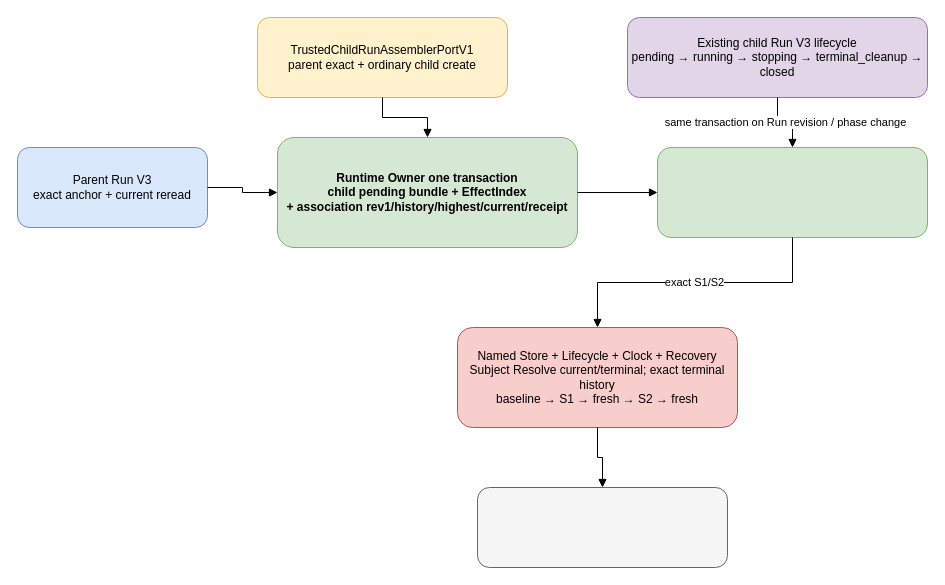
Image size: 945x585. Some labels were removed from this diagram. The centre of each missing label's shape, as x and y in pixels:
Append-only association history revision +1 / full-ref current CAS / ABA highest: the point at 792,192
Application / Review / Agent Host public refs only; no Runtime write authority: the point at 602,527
